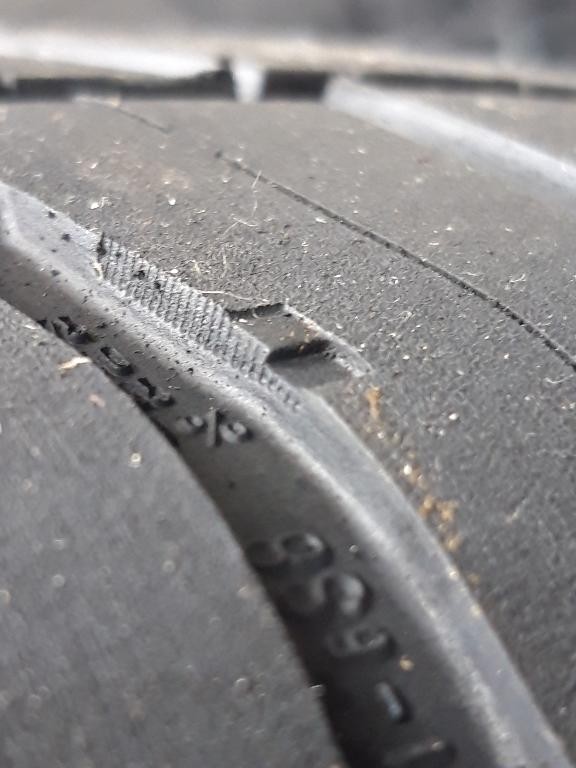temoin:25: (206, 293, 389, 427)
